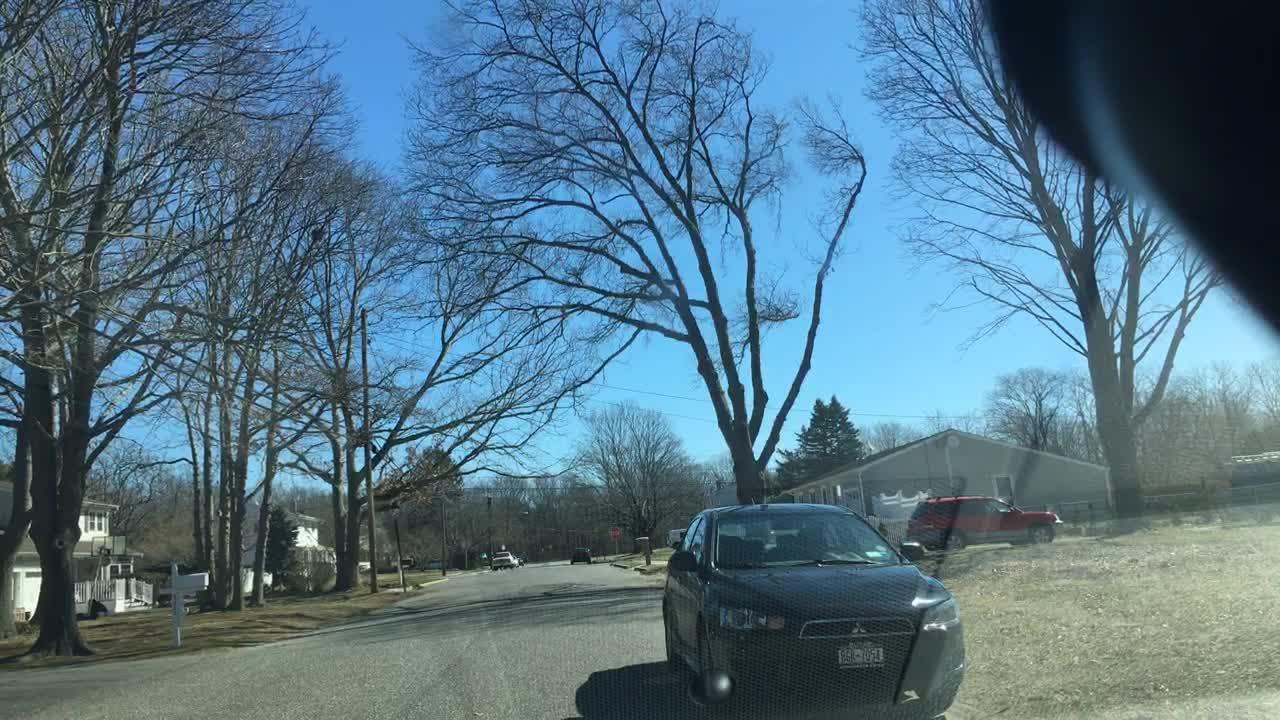Mitsubishi: (839, 615, 877, 642)
